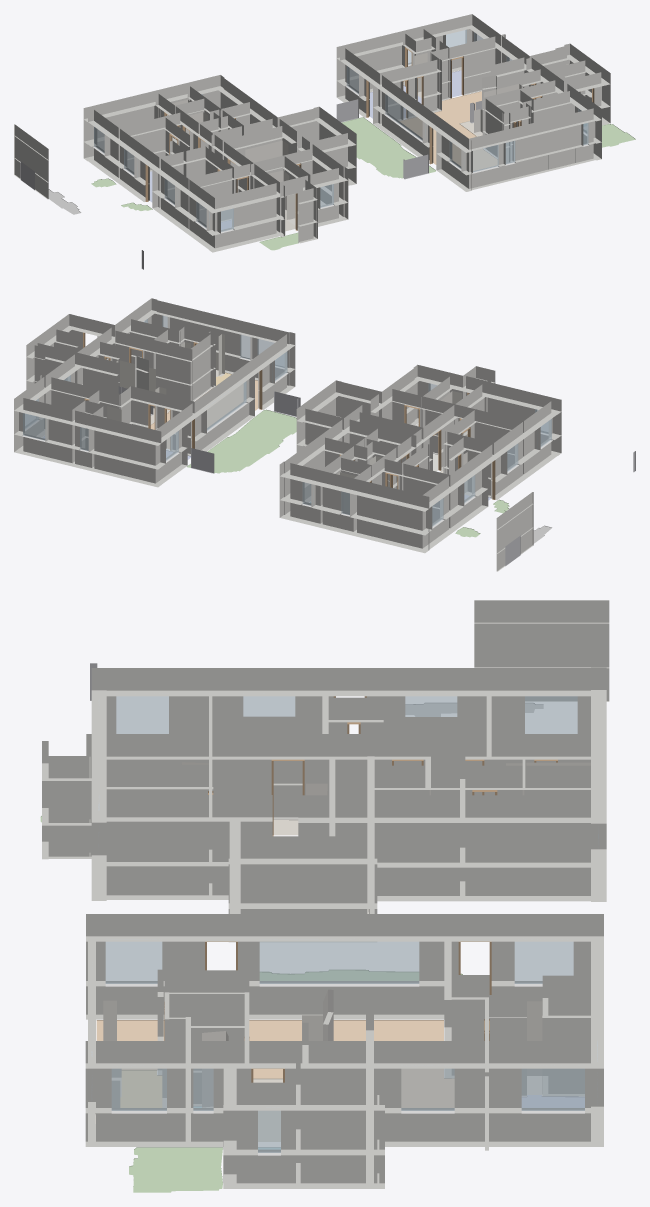
3 views of the same model, one above another, from view 1: azimuth 30°, elevation 25°; view 2: azimuth 150°, elevation 25°; view 3: azimuth 270°, elevation 25° (orthographic). The views are drawn at different scales.
Visible parts, largest first — view 1: walls, floor_27_Outdoor, floor_9_Living_Room, railings, window_17, furniture_6_closet, window_30, floor_29_Outdoor, floor_3_Bed_Room, floor_30_Outdoor; view 2: walls, floor_27_Outdoor, railings, floor_9_Living_Room, window_17, furniture_7_closet, window_2; view 3: walls, window_17, floor_9_Living_Room, floor_29_Outdoor, window_31, window_5, window_0, window_8, window_12, window_3, window_4, floor_11_Kitchen (+7 smaller).
Part boxes in pixels (x1=…): walls: x1=14, y1=14, x2=610, y2=252; floor_27_Outdoor: x1=342, y1=117, x2=435, y2=178; floor_9_Living_Room: x1=400, y1=91, x2=497, y2=170; railings: x1=20, y1=99, x2=482, y2=269; window_17: x1=385, y1=93, x2=425, y2=140; furniture_6_closet: x1=245, y1=140, x2=288, y2=162; window_30: x1=473, y1=145, x2=498, y2=172; floor_29_Outdoor: x1=586, y1=124, x2=635, y2=147; floor_3_Bed_Room: x1=370, y1=70, x2=461, y2=118; floor_30_Outdoor: x1=259, y1=232, x2=298, y2=250; walls: x1=14, y1=298, x2=561, y2=571; floor_27_Outdoor: x1=187, y1=409, x2=296, y2=473; railings: x1=118, y1=386, x2=635, y2=566; floor_9_Living_Room: x1=150, y1=380, x2=258, y2=448; window_17: x1=205, y1=381, x2=246, y2=430; furniture_7_closet: x1=116, y1=360, x2=155, y2=410; window_2: x1=23, y1=413, x2=45, y2=440; walls: x1=42, y1=600, x2=609, y2=1188; window_17: x1=259, y1=941, x2=419, y2=983; floor_9_Living_Room: x1=96, y1=1020, x2=454, y2=1107; floor_29_Outdoor: x1=129, y1=1147, x2=222, y2=1192; window_31: x1=521, y1=1068, x2=584, y2=1110; window_5: x1=105, y1=941, x2=162, y2=983; window_0: x1=111, y1=1068, x2=166, y2=1110; window_8: x1=514, y1=941, x2=573, y2=983; window_12: x1=401, y1=1068, x2=454, y2=1110; window_3: x1=116, y1=696, x2=168, y2=733; window_4: x1=525, y1=696, x2=577, y2=733; floor_11_Kitchen: x1=120, y1=1070, x2=161, y2=1107.
Size of the model in its own units: 28.27 by 2.72 by 13.83.
